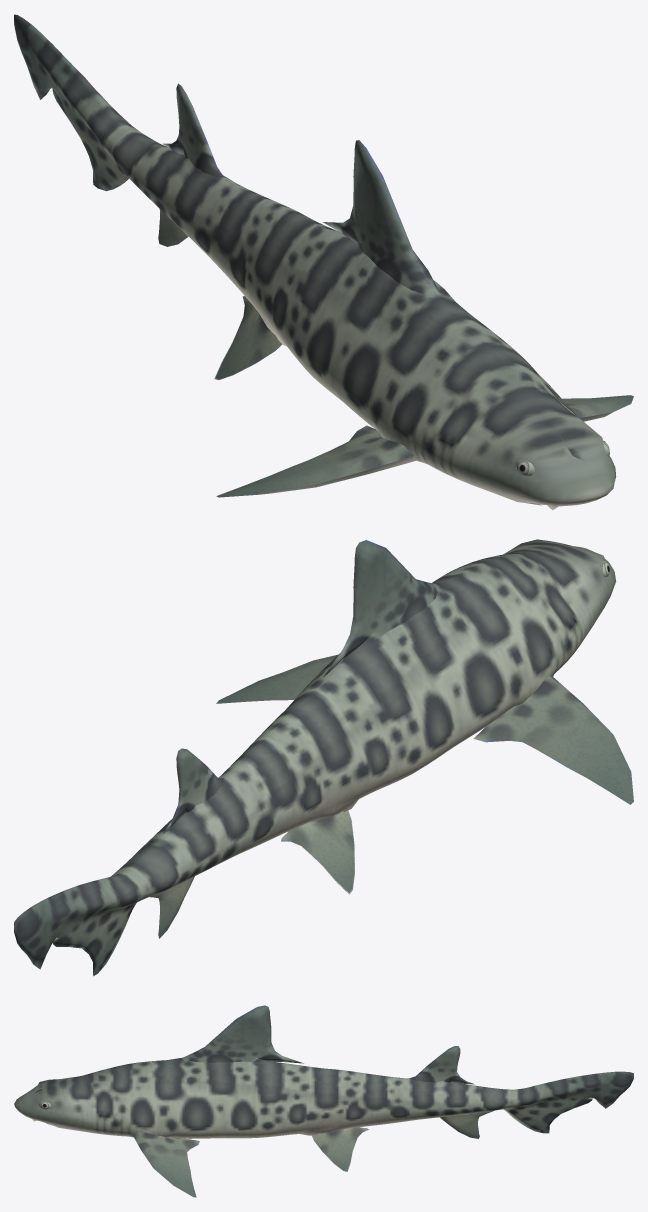
Rendered from shark.fbx.
The picture shows the model from 3 angles, top to bottom: view 1: azimuth 30°, elevation 25°; view 2: azimuth 150°, elevation 25°; view 3: azimuth 270°, elevation 25°; orthographic projection. The views are drawn at different scales.
Parts seen in each view (by area): view 1: polySurface1; view 2: polySurface1; view 3: polySurface1.
Part boxes in pixels (x1,y1,x2,y2): polySurface1: [14, 14, 633, 510]; polySurface1: [14, 539, 633, 976]; polySurface1: [14, 1005, 633, 1197].
Size of the model in its own units: 23.4 by 15.03 by 56.64.
2 materials, 1 textured.
